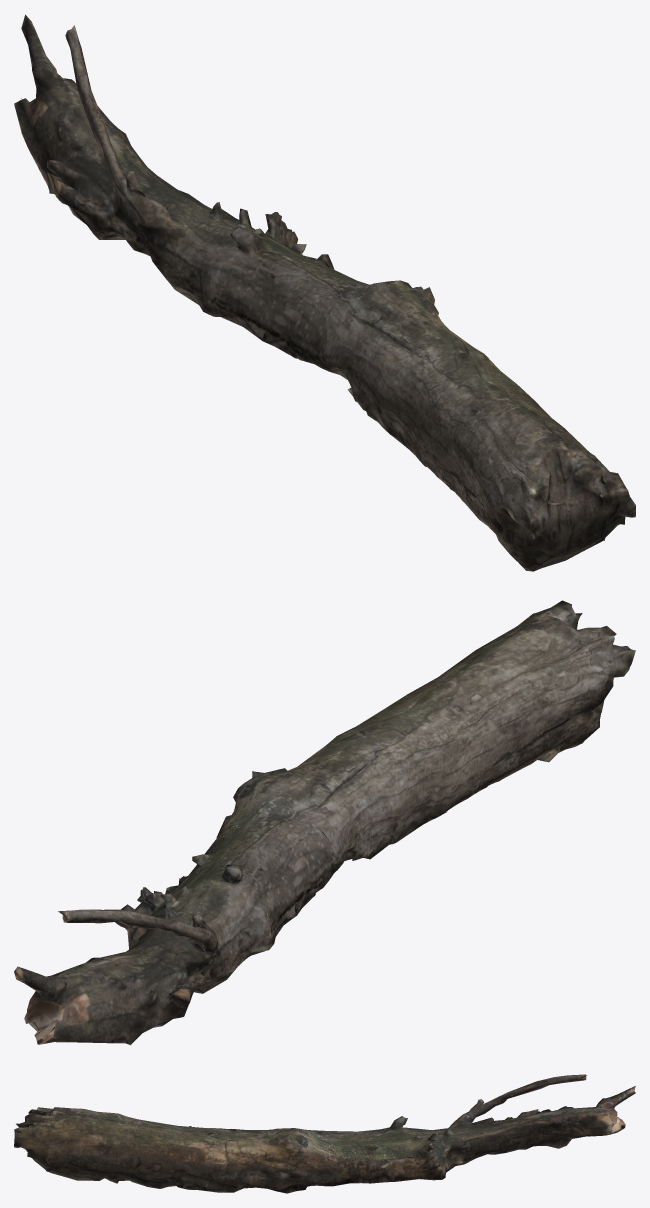
3 views of the same model, one above another, from view 1: azimuth 30°, elevation 25°; view 2: azimuth 150°, elevation 25°; view 3: azimuth 270°, elevation 25° (orthographic). The views are drawn at different scales.
Parts seen in each view (by area): view 1: dry_branches_medium_01_c; view 2: dry_branches_medium_01_c; view 3: dry_branches_medium_01_c.
Boxes of the visible parts, bbox=[...] form: dry_branches_medium_01_c: bbox=[14, 14, 635, 571]; dry_branches_medium_01_c: bbox=[14, 600, 635, 1045]; dry_branches_medium_01_c: bbox=[14, 1074, 635, 1193].
Bounding box in the file's own units: 0.1294 × 0.1434 × 0.7771.
Materials: 1 (1 with a texture image).
